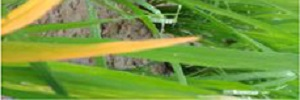RiceTungro: (4, 34, 205, 61), (2, 2, 58, 32)
